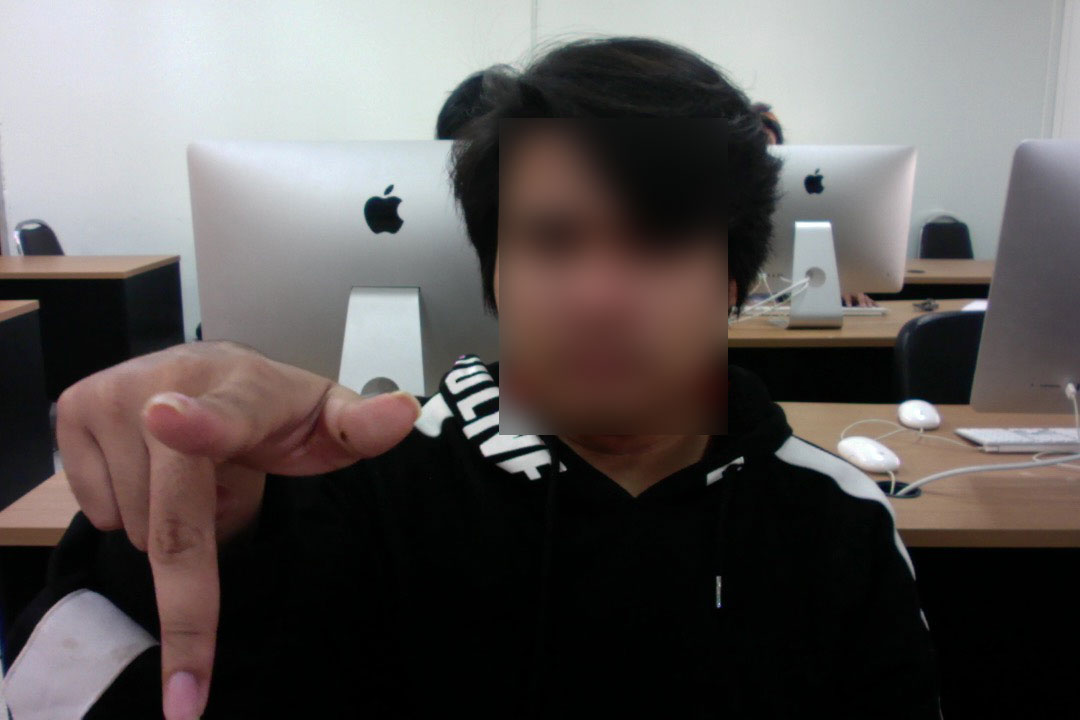por: (48, 342, 429, 719)
